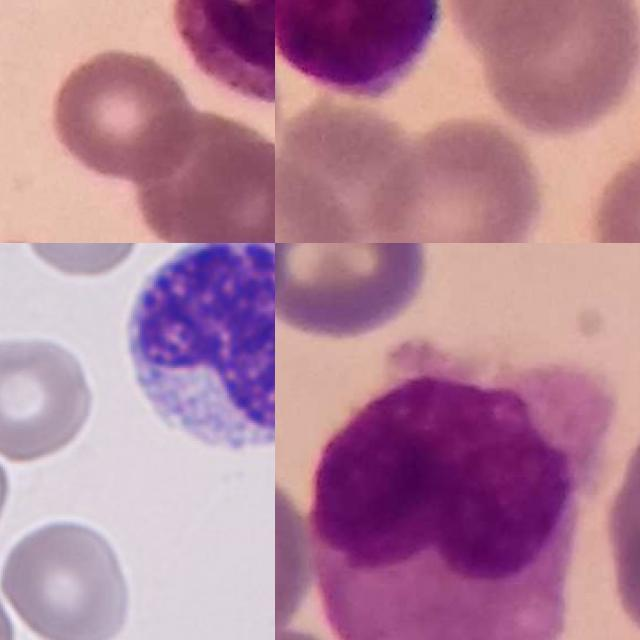Lymphocyte: (111, 243, 275, 466), (275, 0, 439, 104)
Monocyte: (306, 340, 613, 640)
RBC: (0, 511, 138, 640), (0, 328, 95, 460), (15, 243, 148, 280)
